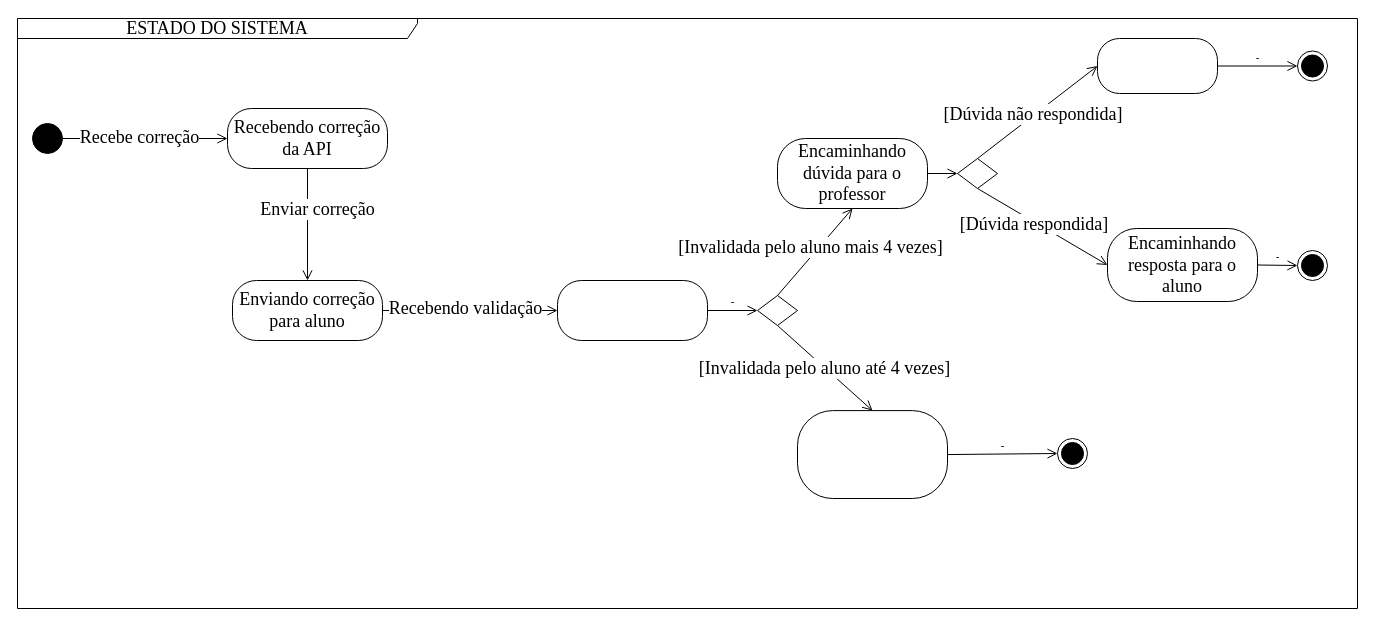
Image size: 1375x626. Some labels were removed from this diagram. Here are the shapes that lost their labels. From the top down, the centre of each, then its label:
[1157,66]: Sem resposta para dúvida
[632,310]: Recebe validação do aluno
[872,454]: Enviar comando de corrigir novamente para API
